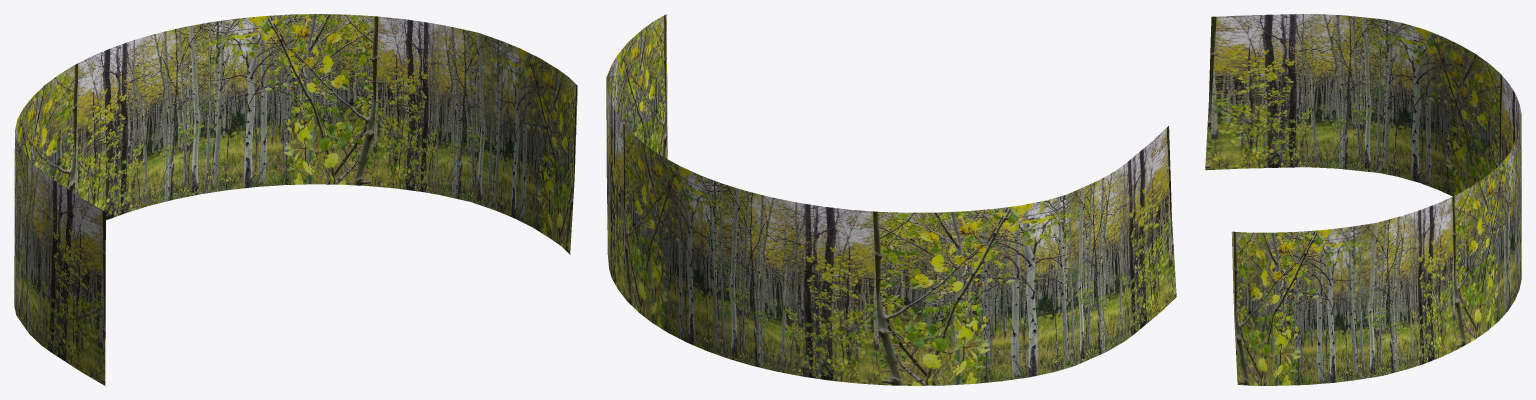
The model's file is Background.glb.
The picture shows the model from 3 angles, left to right: view 1: azimuth 30°, elevation 25°; view 2: azimuth 150°, elevation 25°; view 3: azimuth 270°, elevation 25°; orthographic projection. The views are drawn at different scales.
Parts seen in each view (by area): view 1: Plane.002; view 2: Plane.002; view 3: Plane.002.
Boxes of the visible parts, left/top/right/bottom form: Plane.002: left=14, top=14, right=577, bottom=385; Plane.002: left=606, top=14, right=1176, bottom=385; Plane.002: left=1205, top=14, right=1521, bottom=385.
Size of the model in its own units: 64.42 by 21.14 by 39.08.
Materials: 1 (1 with a texture image).
